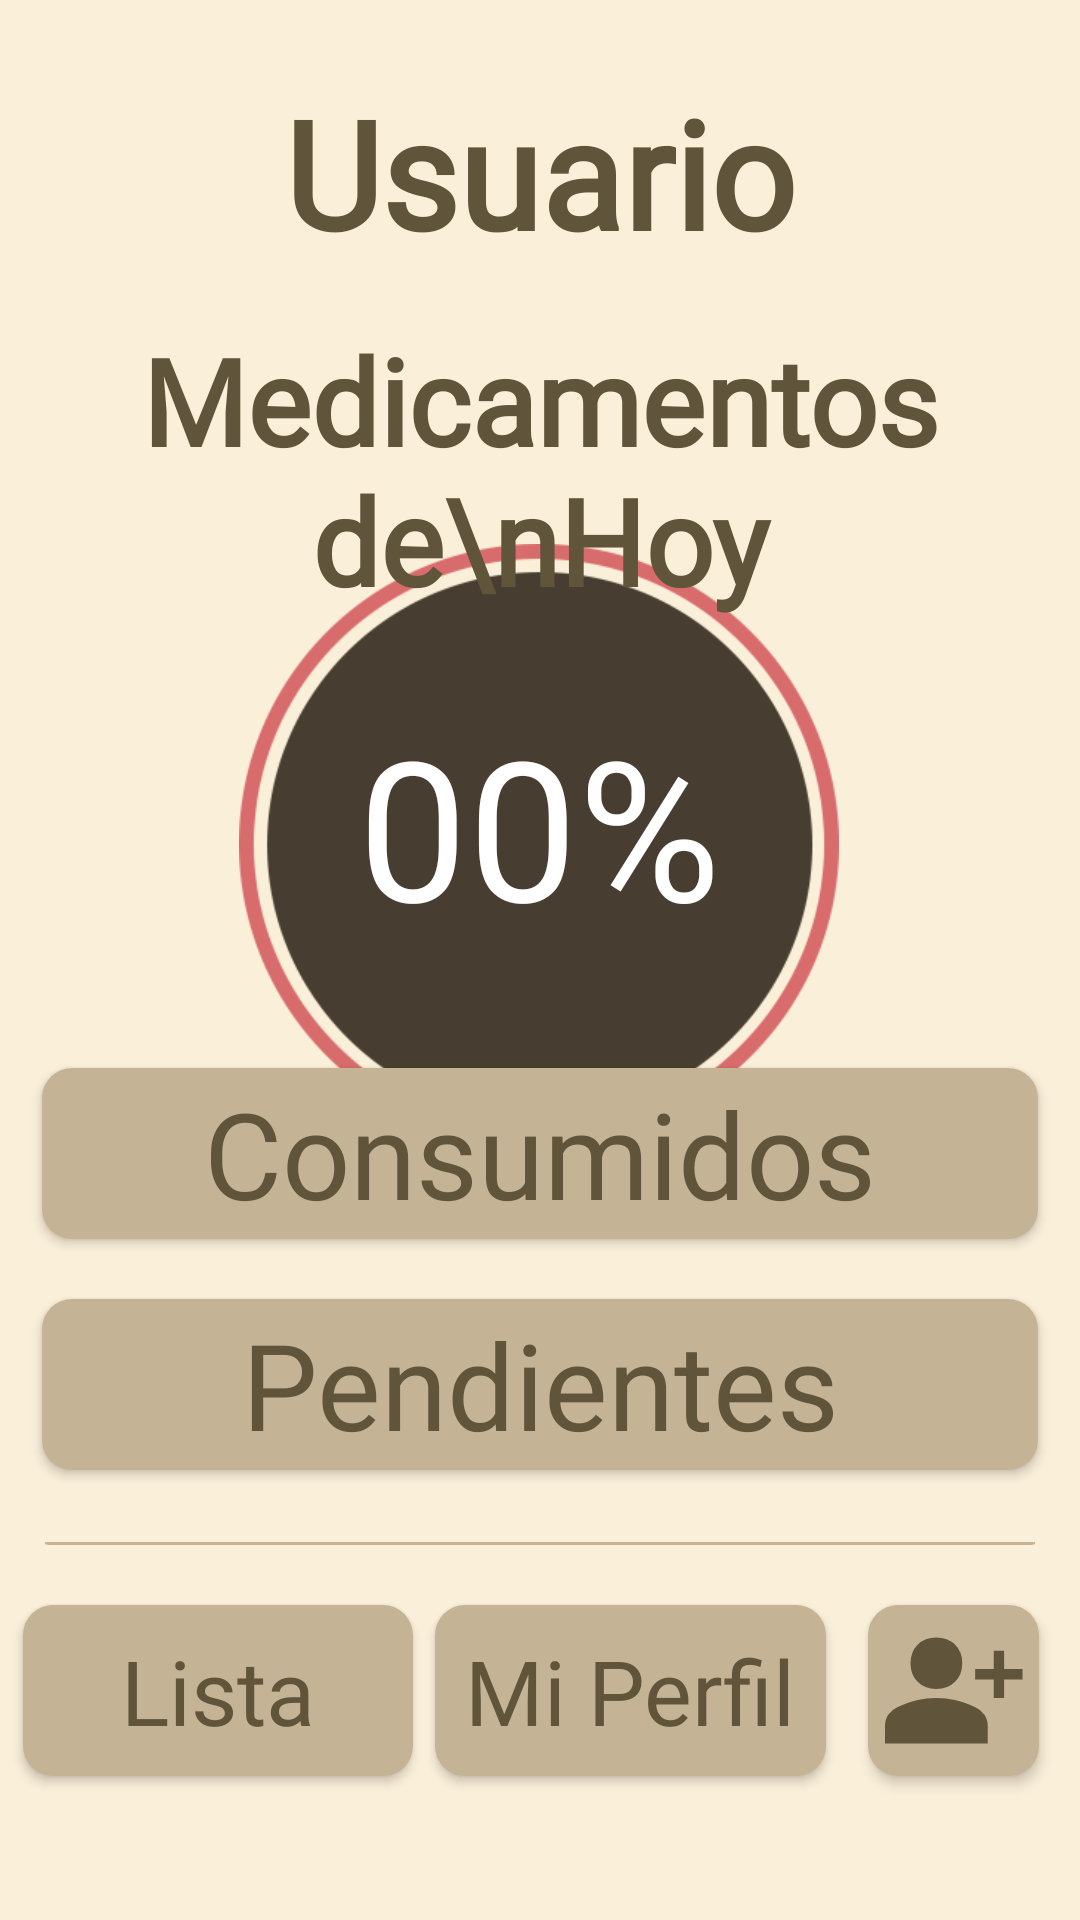

Icon click points for this 1080w x 1920h phone screenshot, format (x,y):
agregar perfil: (953,1690)
